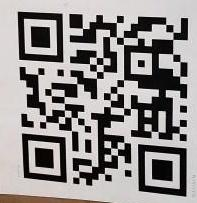qrcode: (18, 12, 190, 198)
